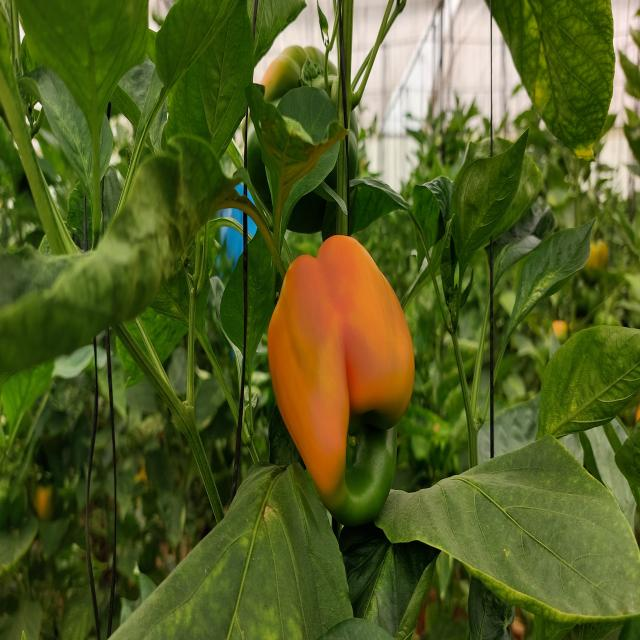Yellow-Ready-to-Harvest: (264, 230, 416, 490)
